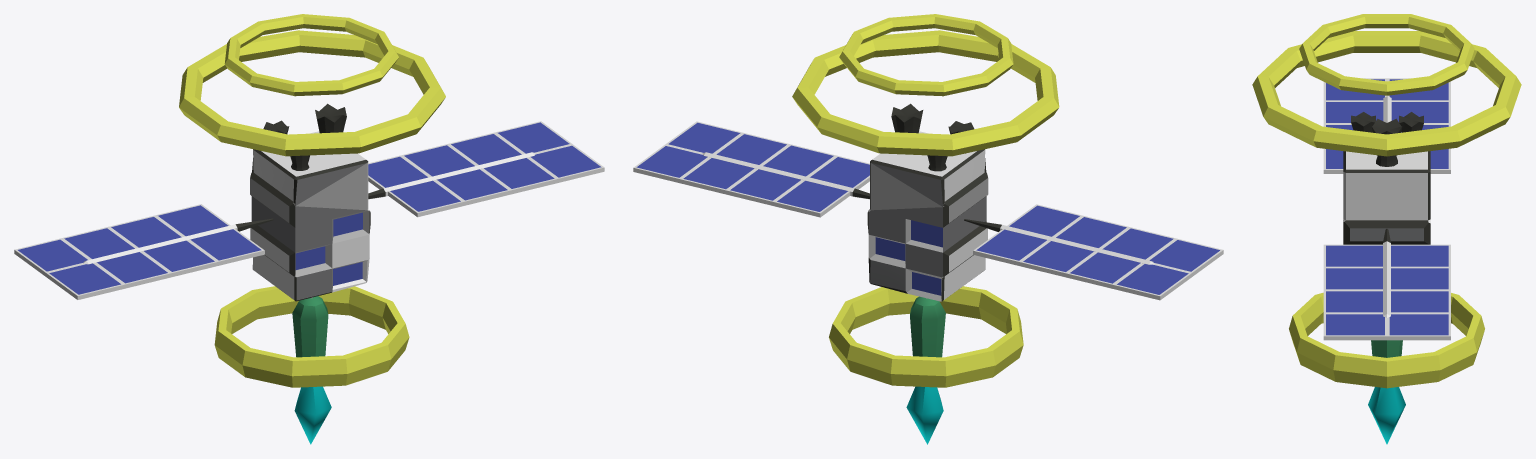
Rendered from satellite.fbx.
The picture shows the model from 3 angles, left to right: view 1: azimuth 30°, elevation 25°; view 2: azimuth 150°, elevation 25°; view 3: azimuth 270°, elevation 25°; orthographic projection.
Visible parts, largest first — view 1: pCube1, pCube4, pCube5, pTorus1, pTorus2, pTorus3, pCylinder5, pCylinder4, pCylinder1; view 2: pCube1, pCube4, pCube5, pTorus1, pTorus2, pTorus3, pCylinder5, pCylinder4, pCylinder1; view 3: pCube5, pTorus1, pTorus2, pCube1, pTorus3, pCube4, pCylinder4, pCylinder1, pCylinder5, pCylinder3, pCylinder2.
Part boxes in pixels (x1,y1,x2,y2): pCube1: (250, 131, 370, 301); pCube4: (14, 204, 273, 299); pCube5: (368, 121, 604, 217); pTorus1: (179, 30, 445, 156); pTorus2: (214, 286, 409, 387); pTorus3: (224, 14, 398, 96); pCylinder5: (292, 296, 328, 357); pCylinder4: (294, 297, 331, 444); pCylinder1: (315, 103, 346, 133); pCube1: (867, 131, 988, 301); pCube4: (964, 204, 1223, 300); pCube5: (633, 121, 869, 217); pTorus1: (792, 30, 1059, 156); pTorus2: (829, 286, 1023, 387); pTorus3: (839, 14, 1013, 96); pCylinder5: (910, 296, 945, 357); pCylinder4: (906, 386, 943, 444); pCylinder1: (891, 103, 923, 133); pCube5: (1323, 229, 1450, 340); pTorus1: (1252, 31, 1521, 156); pTorus2: (1289, 292, 1484, 388); pCube1: (1343, 151, 1430, 244); pTorus3: (1299, 14, 1474, 95); pCube4: (1323, 78, 1450, 173); pCylinder4: (1368, 387, 1405, 444); pCylinder1: (1371, 118, 1402, 166); pCylinder5: (1371, 340, 1402, 357); pCylinder3: (1399, 112, 1423, 132); pCylinder2: (1351, 112, 1375, 132).
Bounding box in the file's own units: 27.66 × 19.83 × 12.21.
